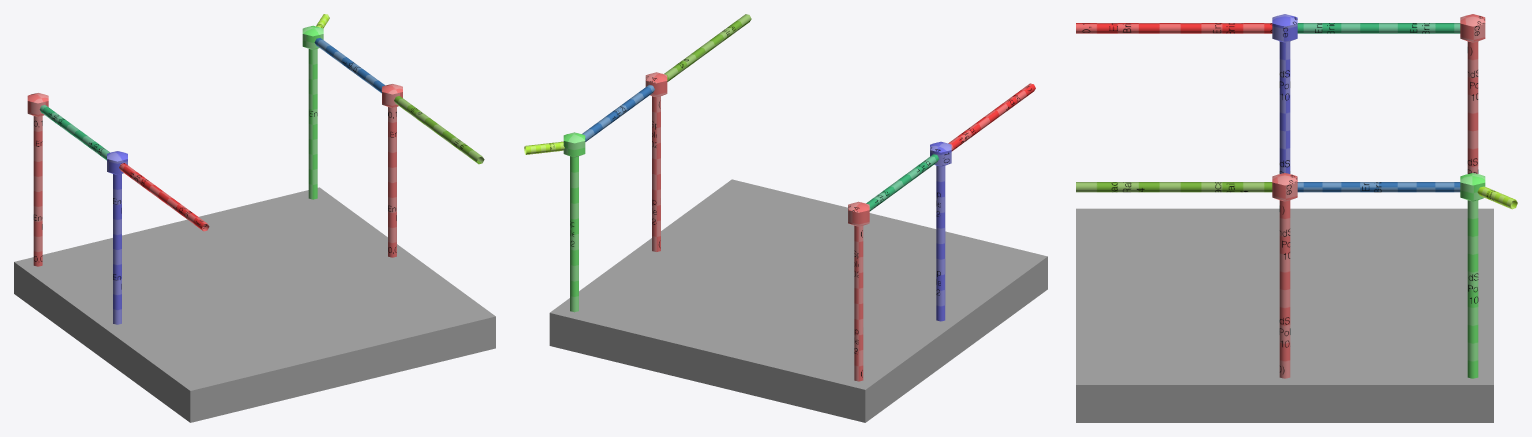
The model's file is bridge_junction_side.fbx.
The picture shows the model from 3 angles, left to right: view 1: azimuth 30°, elevation 25°; view 2: azimuth 150°, elevation 25°; view 3: azimuth 270°, elevation 25°; orthographic projection. The views are drawn at different scales.
Parts seen in each view (by area): view 1: bridge_straight_floor, bridge_junction_side; view 2: bridge_straight_floor, bridge_junction_side; view 3: bridge_straight_floor, bridge_junction_side.
Part boxes in pixels (<box>): bridge_straight_floor: <box>14,187,495,422</box>; bridge_junction_side: <box>27,14,484,324</box>; bridge_straight_floor: <box>549,179,1047,422</box>; bridge_junction_side: <box>524,14,1035,381</box>; bridge_straight_floor: <box>1076,208,1493,422</box>; bridge_junction_side: <box>1076,14,1517,378</box>.
Bounding box in the file's own units: 211 × 126 × 211.
